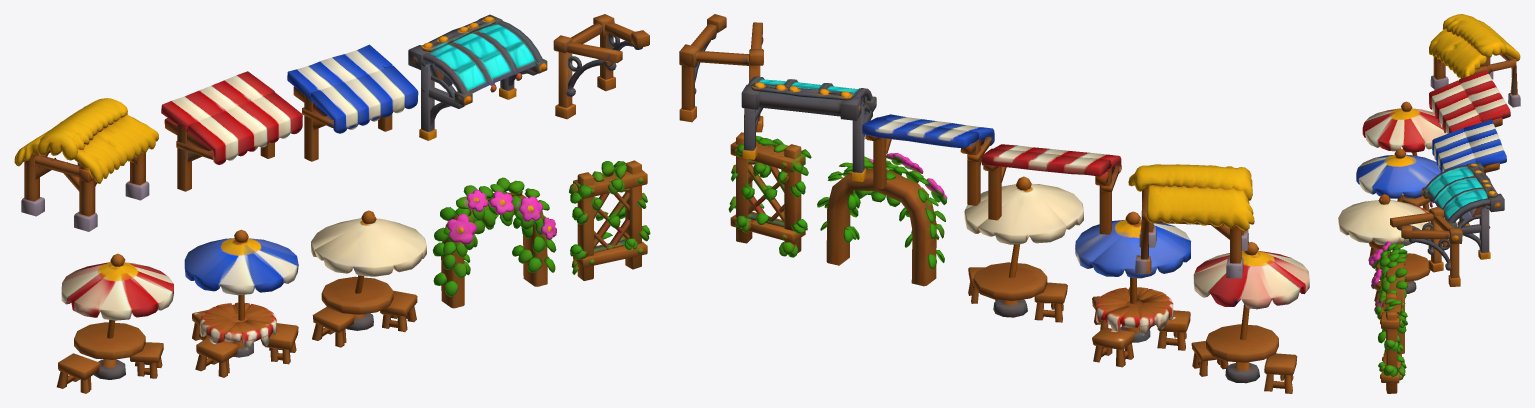
The model's file is sheet_source.glb.
3 views of the same model, side by side, from view 1: azimuth 30°, elevation 25°; view 2: azimuth 150°, elevation 25°; view 3: azimuth 270°, elevation 25° (orthographic). The views are drawn at different scales.
Visible parts, largest first — view 1: tripo_node_29af73f9-36b3-4979-8503-51bef15ef5e3; view 2: tripo_node_29af73f9-36b3-4979-8503-51bef15ef5e3; view 3: tripo_node_29af73f9-36b3-4979-8503-51bef15ef5e3.
Boxes of the visible parts, x1,y1,x2,y2 form: tripo_node_29af73f9-36b3-4979-8503-51bef15ef5e3: (14, 14, 650, 393); tripo_node_29af73f9-36b3-4979-8503-51bef15ef5e3: (679, 14, 1309, 393); tripo_node_29af73f9-36b3-4979-8503-51bef15ef5e3: (1338, 14, 1520, 393).
Bounding box in the file's own units: 0.9995 × 0.3813 × 0.3521.
1 material, 1 textured.
